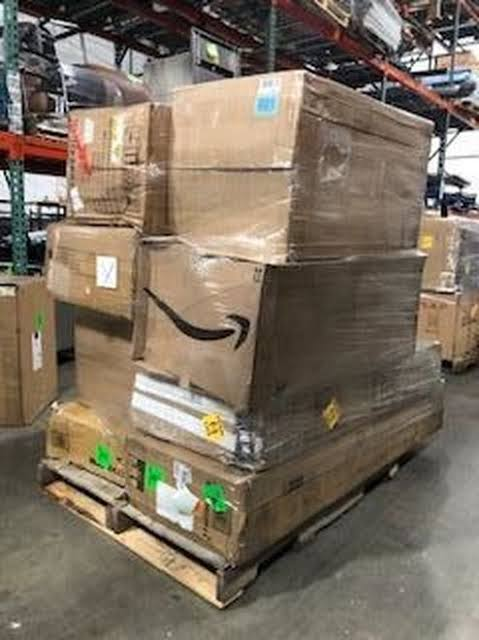box: (248, 252, 428, 423), (286, 72, 436, 267), (168, 62, 304, 269), (135, 239, 264, 417), (122, 431, 240, 563), (132, 360, 253, 475), (64, 102, 167, 232), (45, 221, 135, 322), (45, 403, 137, 496), (68, 311, 134, 427)
pallet: (31, 418, 447, 613)
